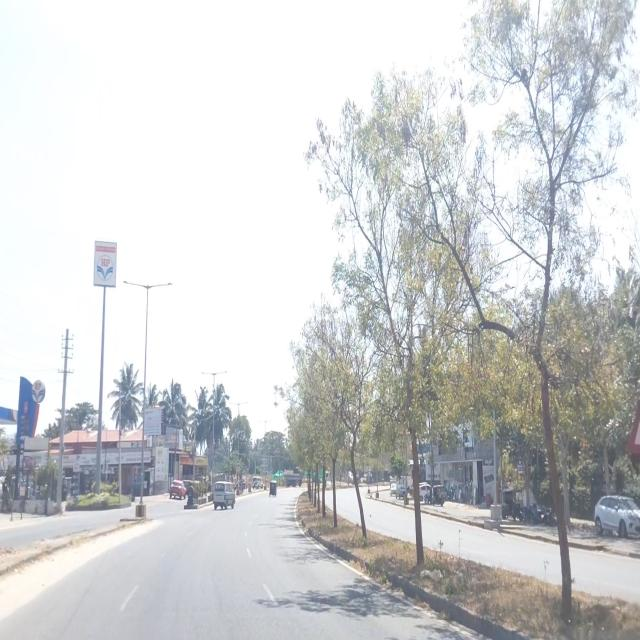bien_cam: (379, 489, 382, 511)
